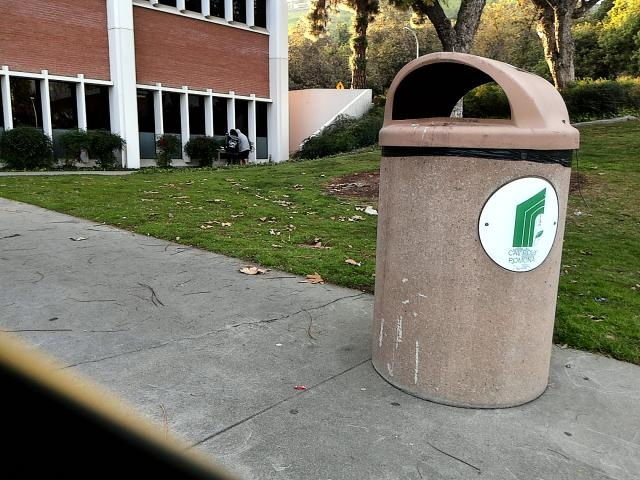trashcan: (353, 54, 576, 406)
